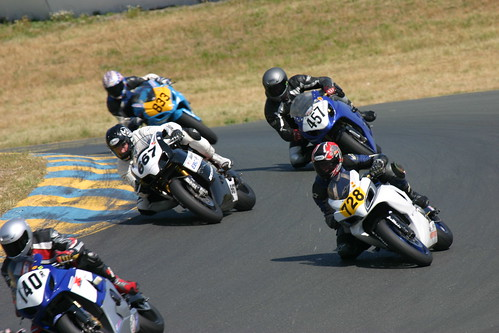helmet: (1, 214, 36, 260), (310, 139, 340, 178), (262, 64, 288, 99), (103, 127, 133, 157), (99, 69, 131, 97)
